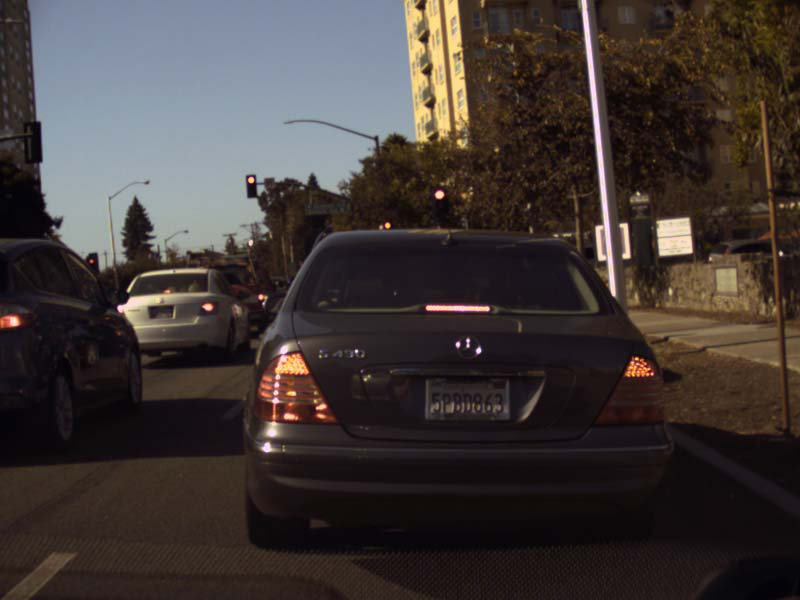Red: (431, 187, 445, 220), (246, 174, 256, 197), (383, 220, 392, 243), (87, 256, 96, 275)
